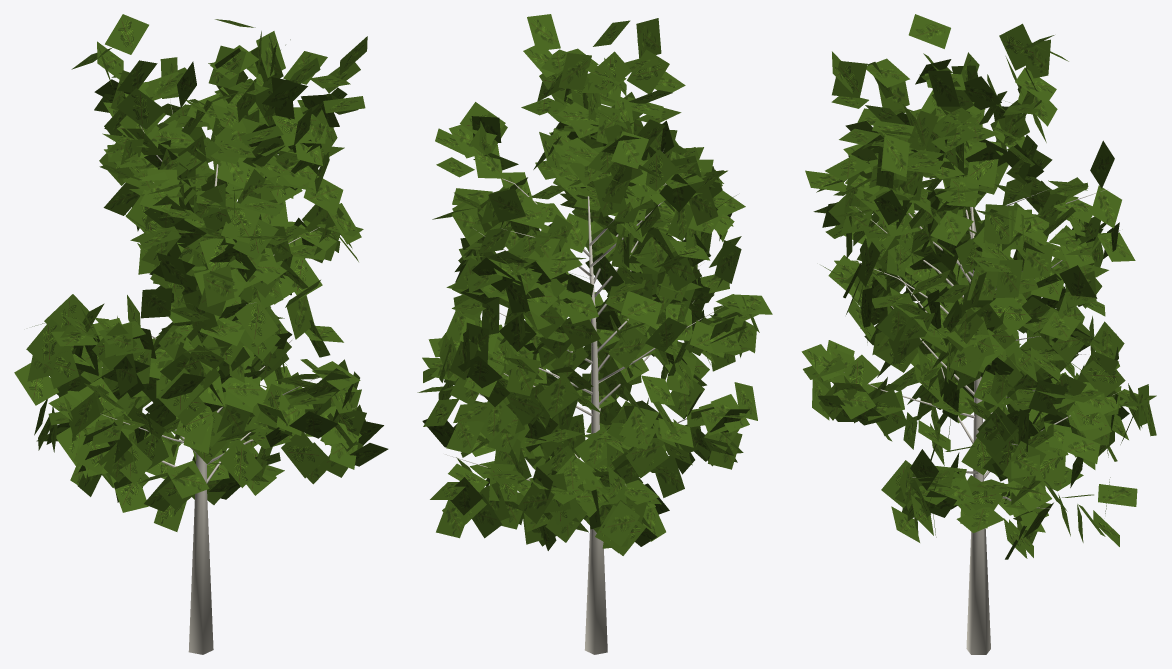
Rendered from near.glb.
The picture shows the model from 3 angles, left to right: view 1: azimuth 30°, elevation 25°; view 2: azimuth 150°, elevation 25°; view 3: azimuth 270°, elevation 25°; orthographic projection. The views are drawn at different scales.
Visible parts, largest first — view 1: foliage, bark; view 2: foliage, bark; view 3: foliage, bark.
Part boxes in pixels (left/top/right/bottom): foliage: left=14, top=14, right=388, bottom=531; bark: left=102, top=98, right=354, bottom=654; foliage: left=417, top=14, right=772, bottom=555; bark: left=445, top=151, right=723, bottom=654; foliage: left=801, top=14, right=1156, bottom=559; bark: left=844, top=189, right=1120, bottom=654.
Size of the model in its own units: 14.61 by 28.86 by 14.67.
2 materials, 1 textured.
